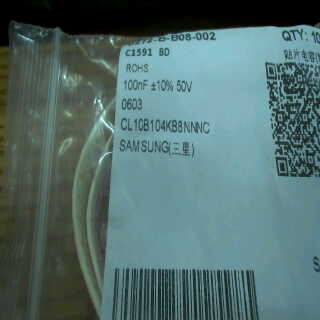100nF: (122, 77, 150, 93)
